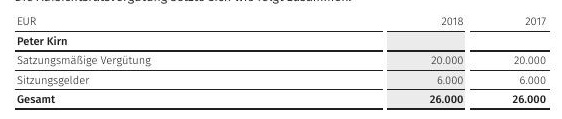table: (0, 0, 562, 119)
